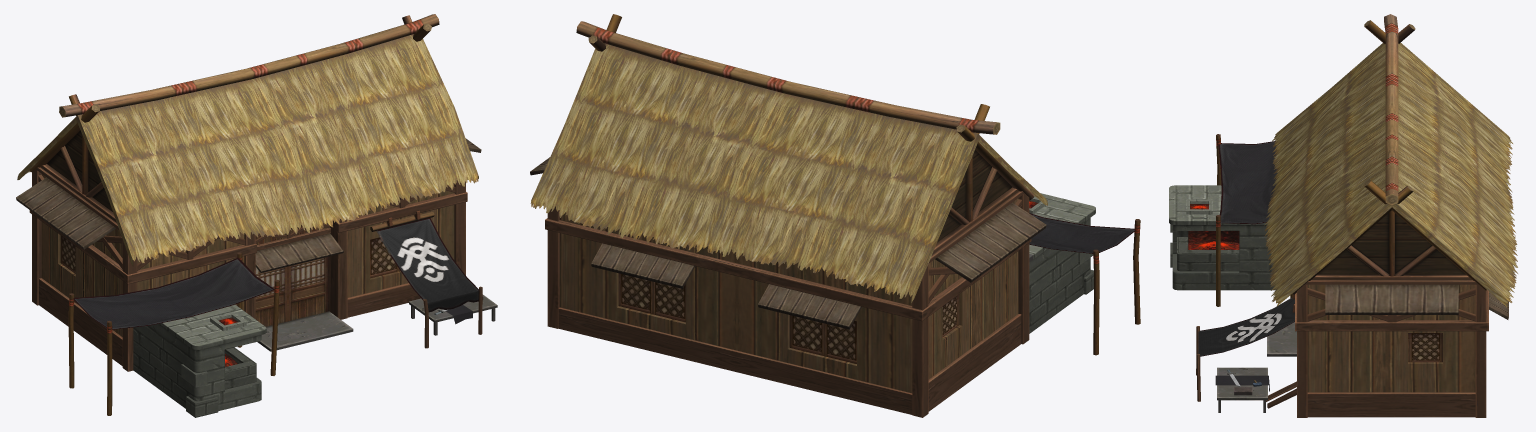
File: SV_BUD_forest_tiejiangpu_1.FBX
3 renders of one model, left to right at view 1: azimuth 30°, elevation 25°; view 2: azimuth 150°, elevation 25°; view 3: azimuth 270°, elevation 25°, orthographic. The views are drawn at different scales.
Visible parts, largest first — view 1: SV_BUD_forest_tiejiangpu_1, ST_BUD_forest_tiejiangpu_0_wuding001; view 2: SV_BUD_forest_tiejiangpu_1, ST_BUD_forest_tiejiangpu_0_wuding001; view 3: SV_BUD_forest_tiejiangpu_1, ST_BUD_forest_tiejiangpu_0_wuding001.
Boxes of the visible parts, x1,y1,x2,y2 form: SV_BUD_forest_tiejiangpu_1: (16,14,497,417); ST_BUD_forest_tiejiangpu_0_wuding001: (17,34,478,266); SV_BUD_forest_tiejiangpu_1: (530,14,1140,417); ST_BUD_forest_tiejiangpu_0_wuding001: (530,43,1047,302); SV_BUD_forest_tiejiangpu_1: (1169,14,1508,417); ST_BUD_forest_tiejiangpu_0_wuding001: (1264,42,1517,307).
Bounding box in the file's own units: 15.03 × 7.99 × 10.84.
